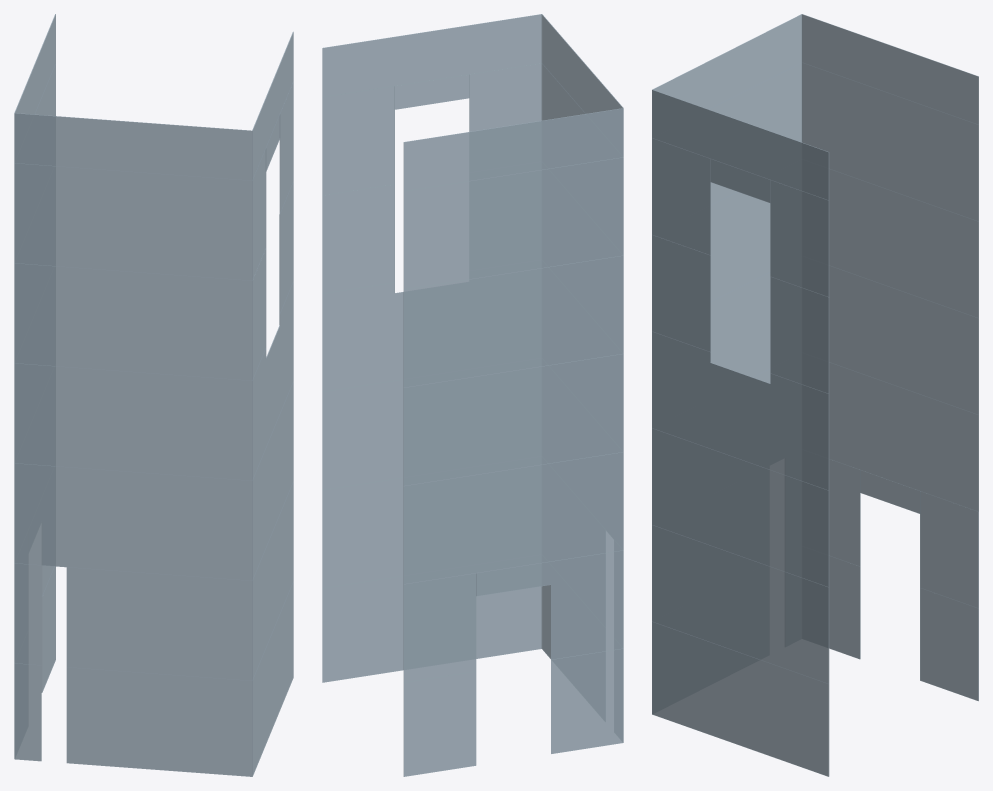
File: 1253_AR_AFP_BASE BUILDING_MASTER_malfredMXUZG_1AdpURx9v8fxrfh$v1StKO-.00 Datum_IfcPlate.dae
The picture shows the model from 3 angles, left to right: view 1: azimuth 30°, elevation 25°; view 2: azimuth 150°, elevation 25°; view 3: azimuth 270°, elevation 25°; orthographic projection. The views are drawn at different scales.
Parts seen in each view (by area): view 1: 26A34$zUD2NPQ10FSXjf7N, 26A34$zUD2NPQ10FSXjf7b, 26A34$zUD2NPQ10FSXjf7H, 26A34$zUD2NPQ10FSXjf7d, 26A34$zUD2NPQ10FSXjf7F, 26A34$zUD2NPQ10FSXjf7f, 26A34$zUD2NPQ10FSXjf7Z, 26A34$zUD2NPQ10FSXjf7w, 26A34$zUD2NPQ10FSXjf4x, 26A34$zUD2NPQ10FSXjf7L, 26A34$zUD2NPQ10FSXjf7y, 26A34$zUD2NPQ10FSXjf7u (+6 smaller); view 2: 26A34$zUD2NPQ10FSXjf7P, 26A34$zUD2NPQ10FSXjf7R, 26A34$zUD2NPQ10FSXjf61, 26A34$zUD2NPQ10FSXjf7$, 26A34$zUD2NPQ10FSXjf7y, 26A34$zUD2NPQ10FSXjkYP, 26A34$zUD2NPQ10FSXjf7h, 26A34$zUD2NPQ10FSXjf4x, 26A34$zUD2NPQ10FSXjf7w, 26A34$zUD2NPQ10FSXjf7L, 26A34$zUD2NPQ10FSXjkqR, 26A34$zUD2NPQ10FSXjf7u (+10 smaller); view 3: 26A34$zUD2NPQ10FSXjf4x, 26A34$zUD2NPQ10FSXjf7w, 26A34$zUD2NPQ10FSXjf7P, 26A34$zUD2NPQ10FSXjf7L, 26A34$zUD2NPQ10FSXjf7y, 26A34$zUD2NPQ10FSXjf7$, 26A34$zUD2NPQ10FSXjf61, 26A34$zUD2NPQ10FSXjf7R, 26A34$zUD2NPQ10FSXjf7u, 26A34$zUD2NPQ10FSXjf7h, 26A34$zUD2NPQ10FSXjkYP, 26A34$zUD2NPQ10FSXjf7Z (+11 smaller).
Boxes of the visible parts, <box> form: 26A34$zUD2NPQ10FSXjf7N: <box>14,163,252,280</box>; 26A34$zUD2NPQ10FSXjf7b: <box>14,263,252,380</box>; 26A34$zUD2NPQ10FSXjf7H: <box>14,363,252,480</box>; 26A34$zUD2NPQ10FSXjf7d: <box>14,463,252,580</box>; 26A34$zUD2NPQ10FSXjf7F: <box>14,563,252,680</box>; 26A34$zUD2NPQ10FSXjf7f: <box>14,663,252,776</box>; 26A34$zUD2NPQ10FSXjf7Z: <box>14,113,252,180</box>; 26A34$zUD2NPQ10FSXjf7w: <box>252,382,293,580</box>; 26A34$zUD2NPQ10FSXjf4x: <box>252,482,293,680</box>; 26A34$zUD2NPQ10FSXjf7L: <box>252,282,293,480</box>; 26A34$zUD2NPQ10FSXjf7y: <box>252,582,293,776</box>; 26A34$zUD2NPQ10FSXjf7u: <box>252,182,293,380</box>; 26A34$zUD2NPQ10FSXjf7P: <box>403,157,623,289</box>; 26A34$zUD2NPQ10FSXjf7R: <box>403,354,623,486</box>; 26A34$zUD2NPQ10FSXjf61: <box>403,452,623,584</box>; 26A34$zUD2NPQ10FSXjf7$: <box>403,256,623,387</box>; 26A34$zUD2NPQ10FSXjf7y: <box>322,576,541,682</box>; 26A34$zUD2NPQ10FSXjkYP: <box>403,108,623,191</box>; 26A34$zUD2NPQ10FSXjf7h: <box>322,14,541,97</box>; 26A34$zUD2NPQ10FSXjf4x: <box>322,478,403,588</box>; 26A34$zUD2NPQ10FSXjf7w: <box>322,379,403,490</box>; 26A34$zUD2NPQ10FSXjf7L: <box>322,282,403,391</box>; 26A34$zUD2NPQ10FSXjkqR: <box>403,573,476,682</box>; 26A34$zUD2NPQ10FSXjf7u: <box>322,184,394,293</box>; 26A34$zUD2NPQ10FSXjf4x: <box>652,525,829,683</box>; 26A34$zUD2NPQ10FSXjf7w: <box>652,428,829,587</box>; 26A34$zUD2NPQ10FSXjf7P: <box>802,62,978,221</box>; 26A34$zUD2NPQ10FSXjf7L: <box>652,331,829,490</box>; 26A34$zUD2NPQ10FSXjf7y: <box>652,622,829,776</box>; 26A34$zUD2NPQ10FSXjf7$: <box>829,169,978,318</box>; 26A34$zUD2NPQ10FSXjf61: <box>829,362,978,511</box>; 26A34$zUD2NPQ10FSXjf7R: <box>829,265,978,414</box>; 26A34$zUD2NPQ10FSXjf7u: <box>652,235,829,393</box>; 26A34$zUD2NPQ10FSXjf7h: <box>652,90,829,200</box>; 26A34$zUD2NPQ10FSXjkYP: <box>802,14,978,124</box>; 26A34$zUD2NPQ10FSXjf7Z: <box>652,14,801,137</box>.
Bounding box in the file's own units: 3.74 × 3.74 × 7.88.
